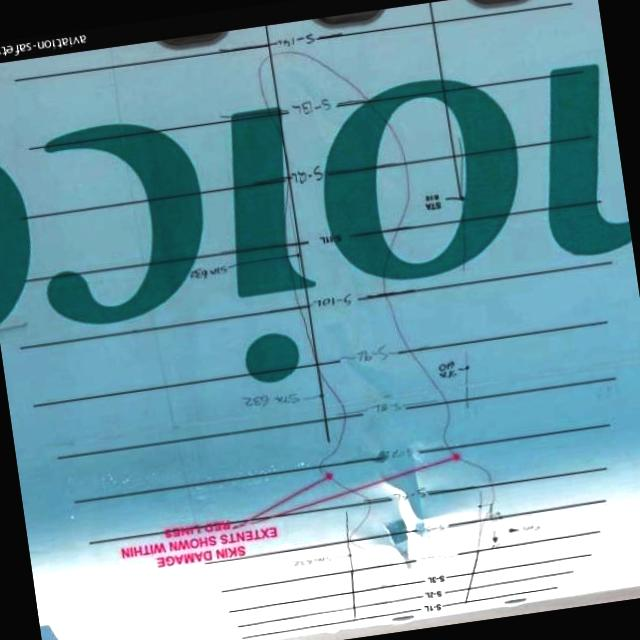dent: (273, 50, 484, 622)
